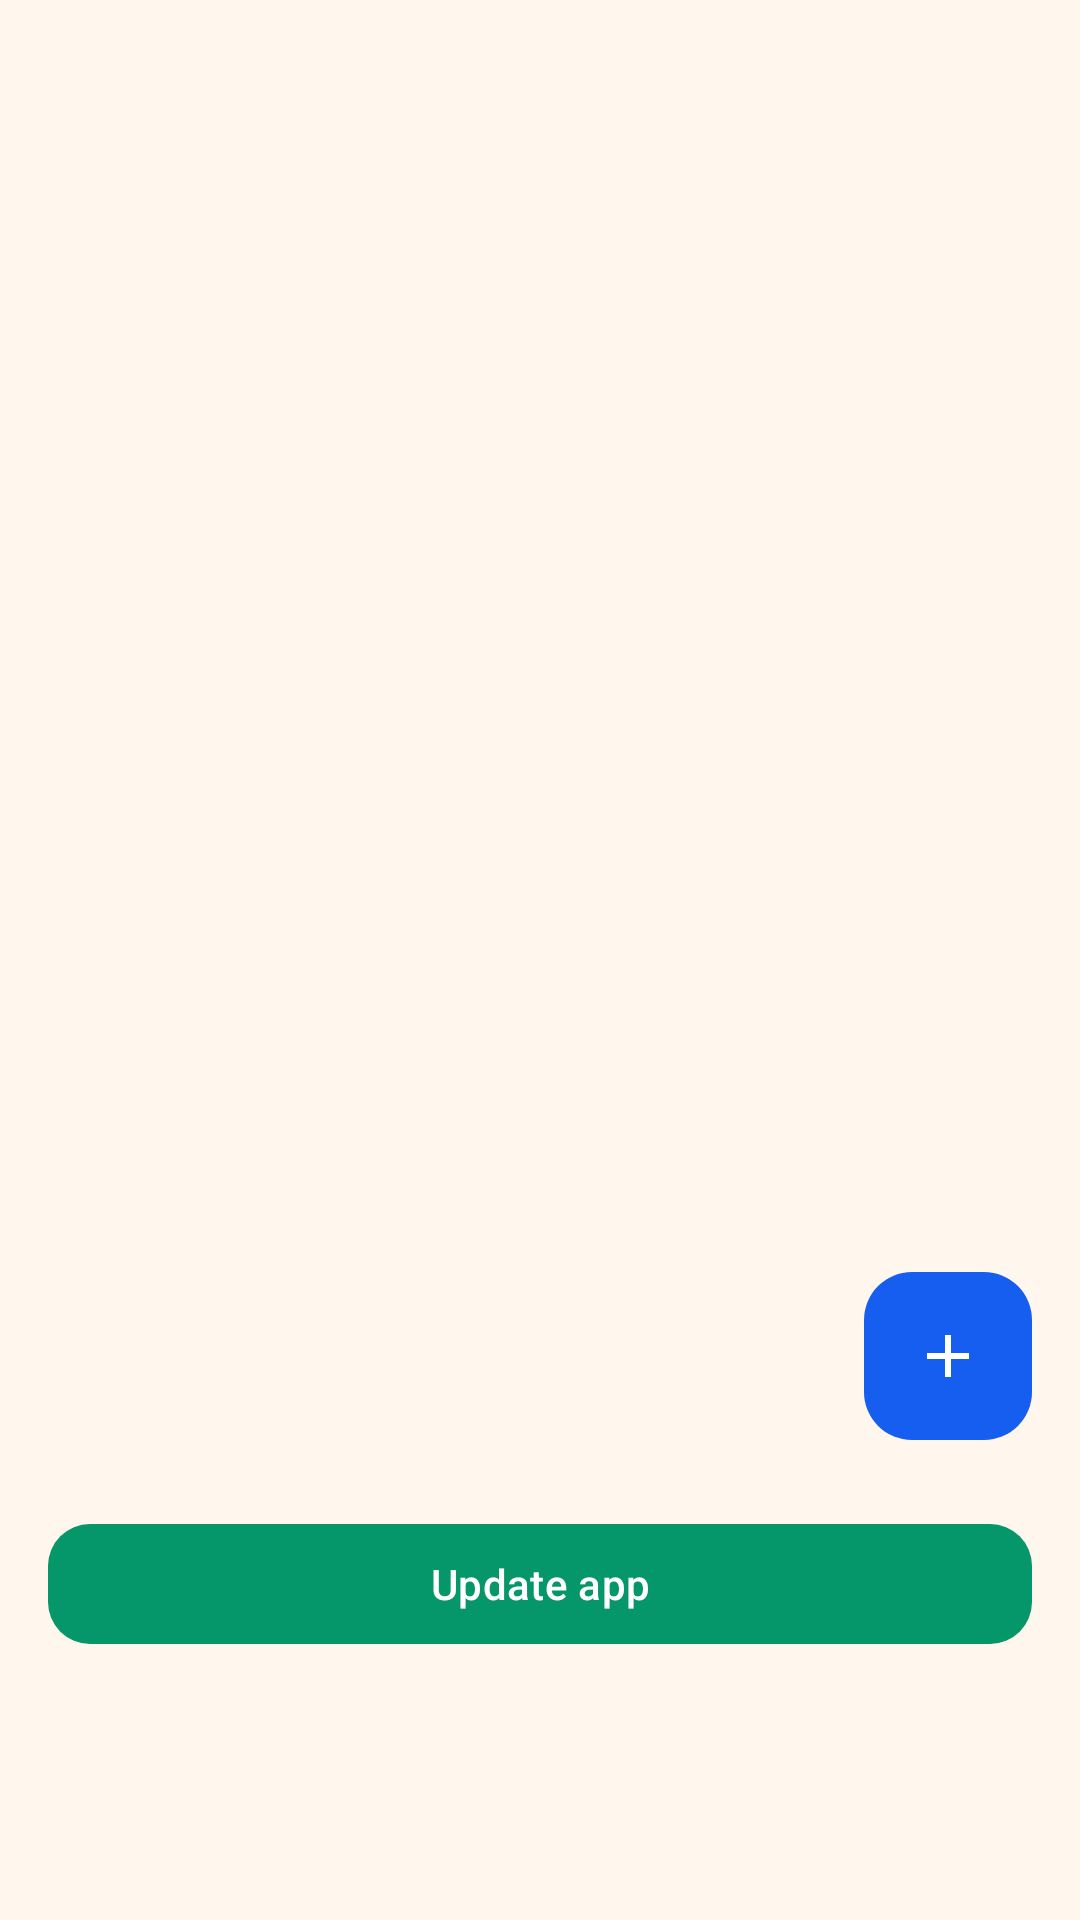

Icon bounding boxes for this 1080w x 1920h phone screenshot, format (x1, y1, x2, y2):
Add server: (864, 1272, 1032, 1440)
